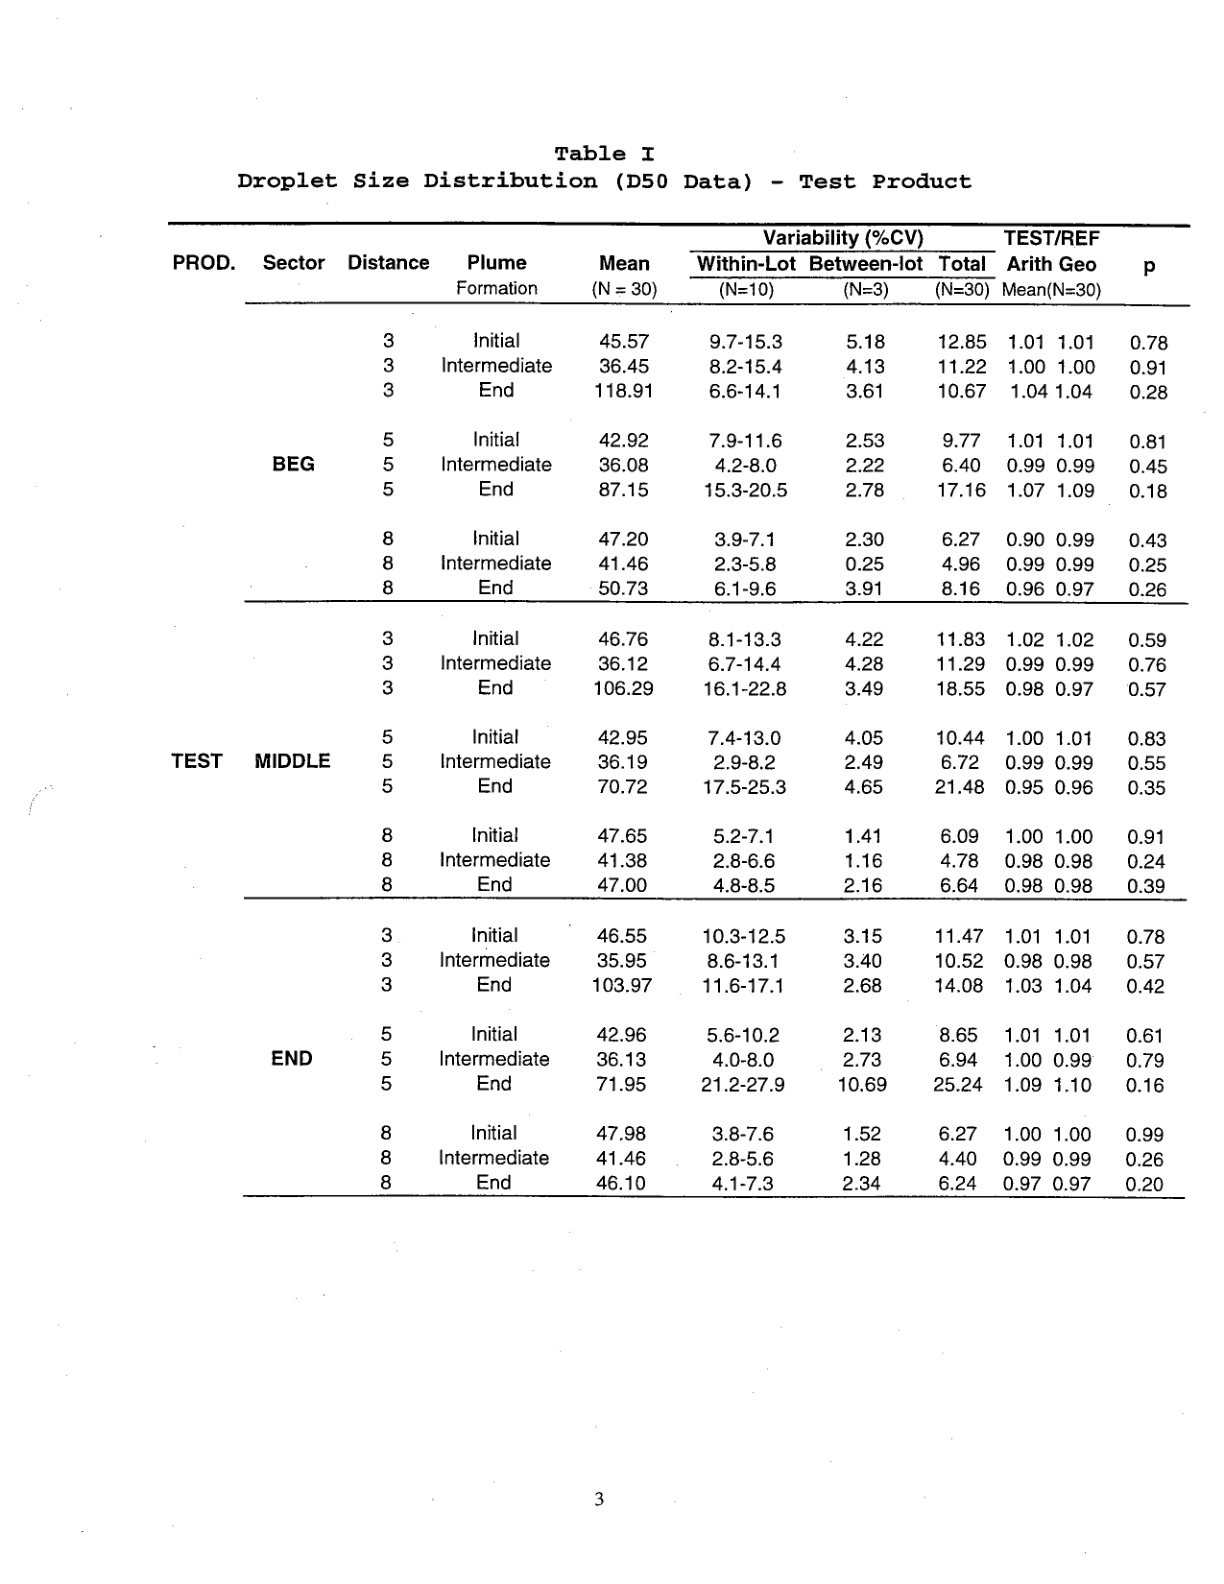partial_lined_merged_cells: (161, 216, 1197, 1203)
